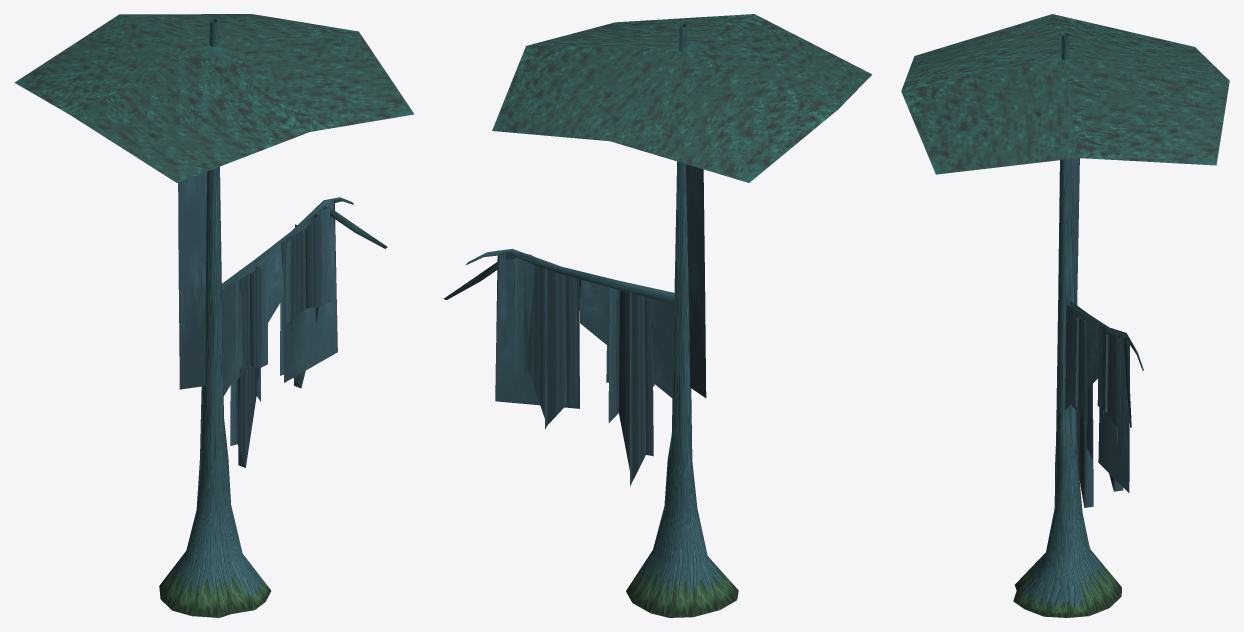
The model's file is swamp_tree_swap_1.fbx.
3 views of the same model, side by side, from view 1: azimuth 30°, elevation 25°; view 2: azimuth 150°, elevation 25°; view 3: azimuth 270°, elevation 25° (orthographic). The views are drawn at different scales.
Parts seen in each view (by area): view 1: leaves, trunk, moss_4, moss_3, moss_2, moss_1, branch; view 2: leaves, trunk, moss_1, moss_4, moss_2, moss_3, branch; view 3: leaves, trunk, moss_4, moss_2, moss_1, moss_3, branch.
Boxes of the visible parts, x1=… form: leaves: x1=14, y1=14, x2=414, y2=182; trunk: x1=159, y1=19, x2=271, y2=617; moss_4: x1=222, y1=199, x2=337, y2=395; moss_3: x1=178, y1=171, x2=206, y2=389; moss_2: x1=230, y1=261, x2=267, y2=467; moss_1: x1=280, y1=206, x2=330, y2=388; branch: x1=222, y1=197, x2=387, y2=289; leaves: x1=492, y1=14, x2=871, y2=182; trunk: x1=626, y1=24, x2=738, y2=617; moss_1: x1=513, y1=254, x2=578, y2=429; moss_4: x1=495, y1=254, x2=674, y2=408; moss_2: x1=606, y1=288, x2=654, y2=486; moss_3: x1=685, y1=164, x2=706, y2=398; branch: x1=443, y1=248, x2=674, y2=304; leaves: x1=901, y1=14, x2=1229, y2=174; trunk: x1=1013, y1=33, x2=1121, y2=617; moss_4: x1=1065, y1=304, x2=1129, y2=492; moss_2: x1=1071, y1=312, x2=1093, y2=507; moss_1: x1=1097, y1=328, x2=1123, y2=491; moss_3: x1=1071, y1=158, x2=1079, y2=305; branch: x1=1070, y1=300, x2=1143, y2=427.
Bounding box in the file's own units: 4503 × 6884 × 3660.
2 materials, 2 textured.
